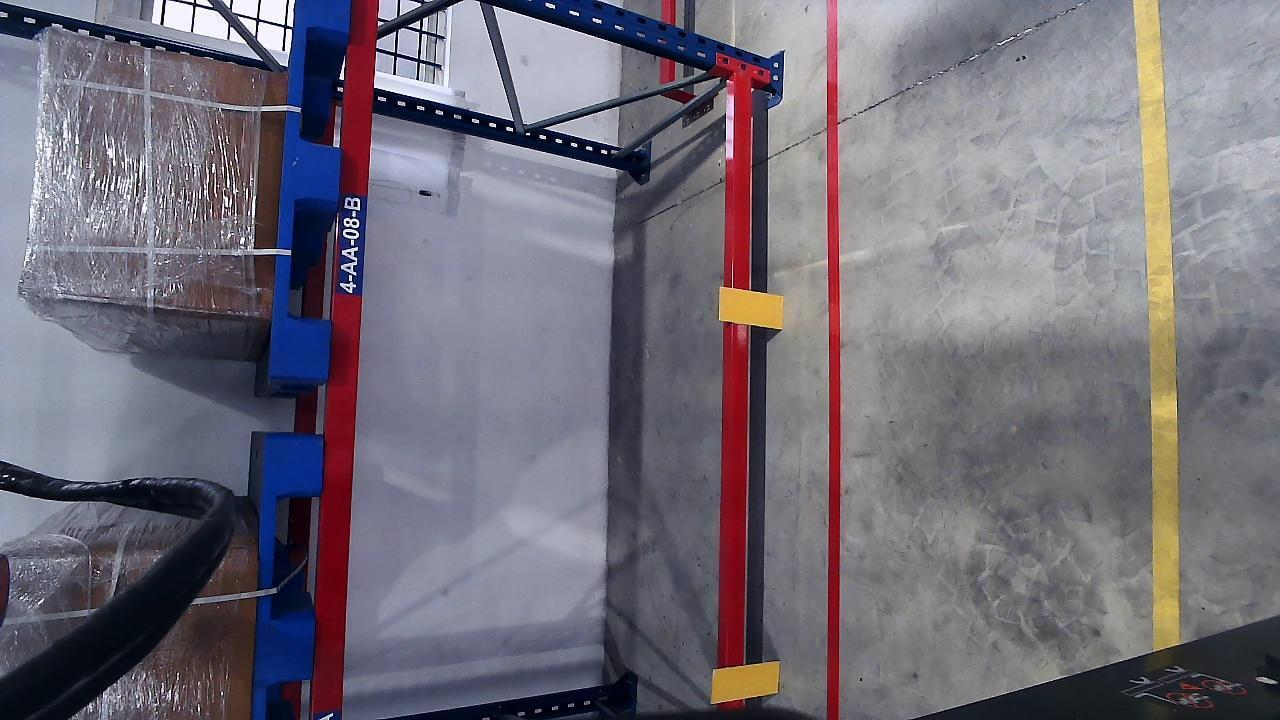red_line: (823, 0, 842, 720)
yellow_line: (1135, 0, 1176, 645)
